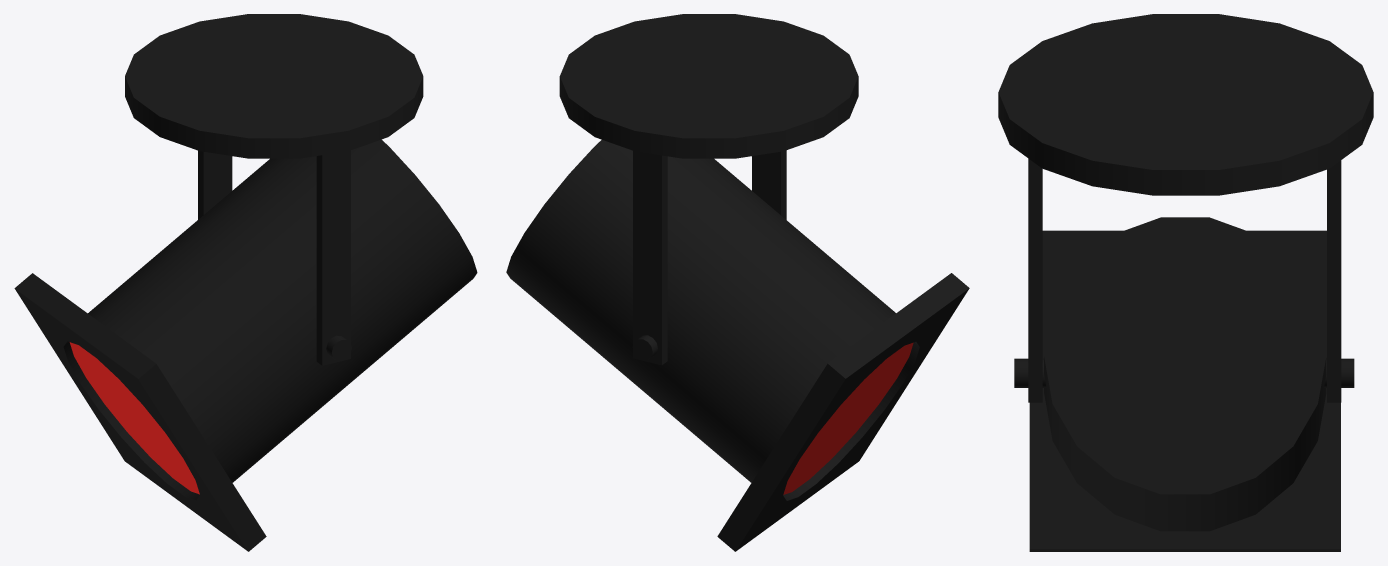
Rendered from lightRED.obj.
3 views of the same model, side by side, from view 1: azimuth 30°, elevation 25°; view 2: azimuth 150°, elevation 25°; view 3: azimuth 270°, elevation 25° (orthographic). The views are drawn at different scales.
Visible parts, largest first — view 1: Cylinder001, Cylinder002, Box013, Box015, Box014; view 2: Cylinder001, Cylinder002, Box013, Box015, Box014; view 3: Cylinder001, Cylinder002, Box013, Box015, Cylinder003.
Boxes of the visible parts, x1=… form: Cylinder001: x1=88, y1=139, x2=477, y2=482; Cylinder002: x1=125, y1=14, x2=423, y2=158; Box013: x1=14, y1=273, x2=266, y2=551; Box015: x1=198, y1=150, x2=350, y2=365; Box014: x1=69, y1=342, x2=199, y2=494; Cylinder001: x1=506, y1=140, x2=895, y2=482; Cylinder002: x1=559, y1=14, x2=858, y2=158; Box013: x1=717, y1=273, x2=969, y2=551; Box015: x1=633, y1=150, x2=786, y2=365; Box014: x1=783, y1=342, x2=913, y2=494; Cylinder001: x1=1044, y1=217, x2=1326, y2=531; Cylinder002: x1=998, y1=14, x2=1373, y2=195; Box013: x1=1029, y1=230, x2=1340, y2=551; Box015: x1=1028, y1=158, x2=1341, y2=402; Cylinder003: x1=1014, y1=358, x2=1354, y2=387.
Size of the model in its own units: 0.6179 by 0.6443 by 0.4263.
